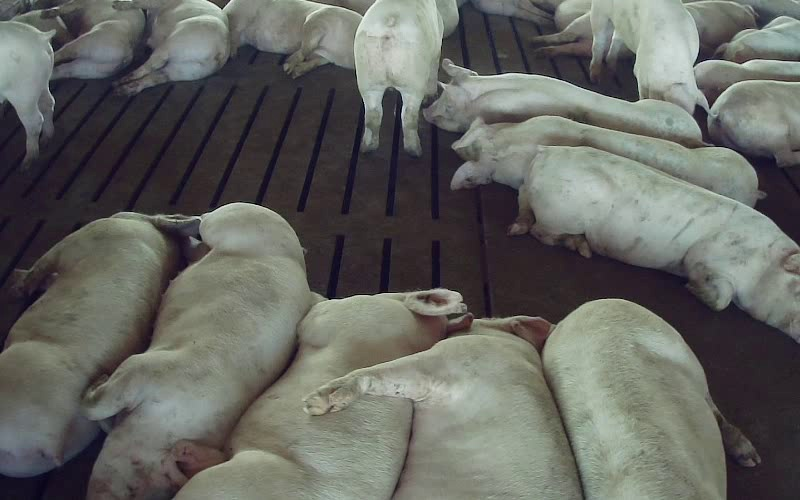pig: (83, 203, 313, 499), (176, 289, 470, 499), (511, 147, 799, 342), (0, 213, 198, 476), (306, 318, 581, 499), (542, 299, 759, 499), (452, 116, 762, 206), (424, 59, 704, 146), (354, 0, 443, 156), (590, 0, 707, 113), (113, 0, 229, 94), (223, 0, 361, 77), (42, 0, 144, 79), (707, 80, 799, 166), (694, 59, 799, 105)
